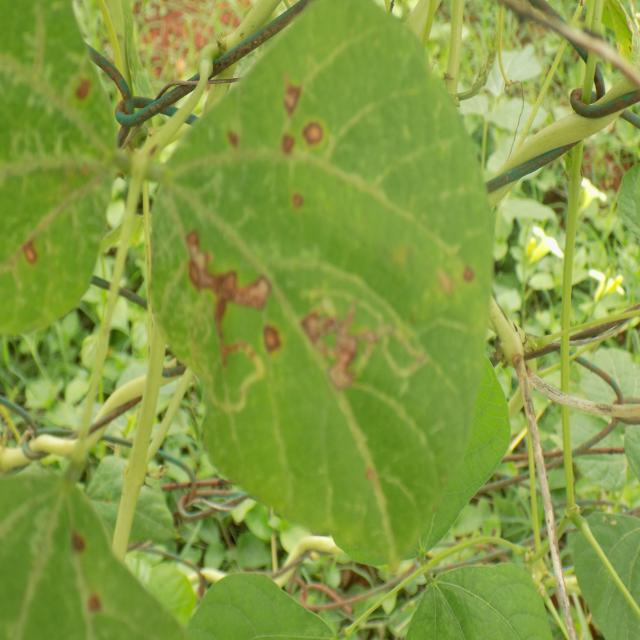Dolicos bean_cercospora leaf spot: (143, 0, 491, 569)
